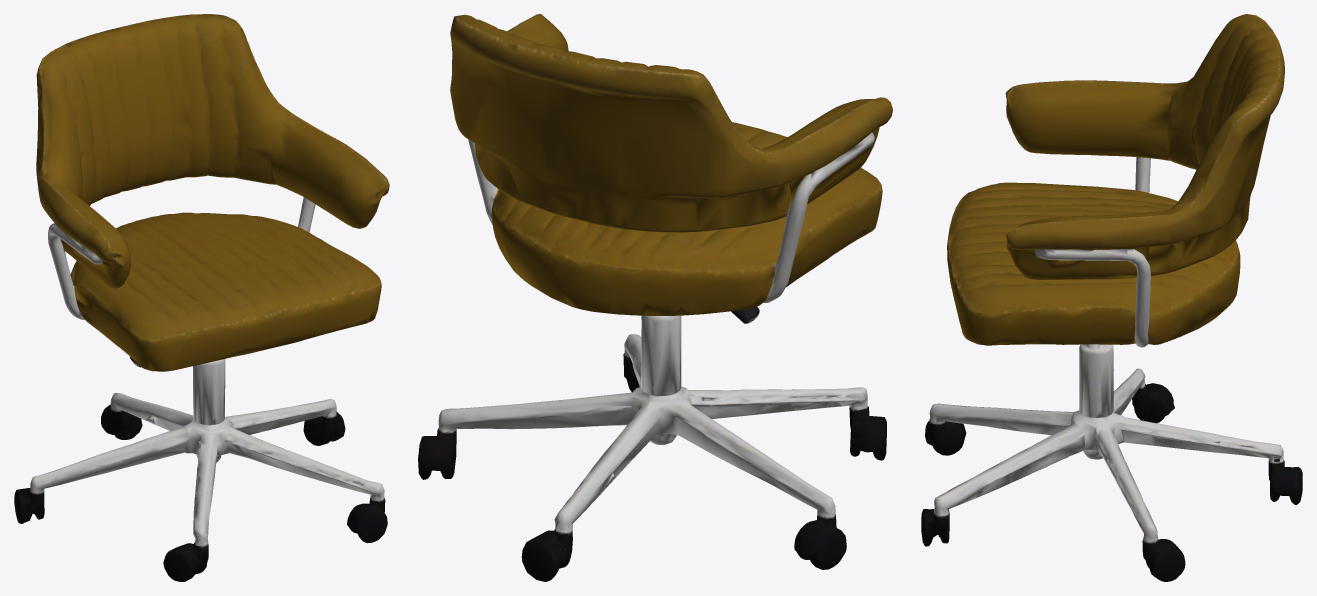
Rendered from UC47ONxj7-W7BqCAS4iam.glb.
3 views of the same model, side by side, from view 1: azimuth 30°, elevation 25°; view 2: azimuth 150°, elevation 25°; view 3: azimuth 270°, elevation 25° (orthographic). The views are drawn at different scales.
Parts seen in each view (by area): view 1: geometry_0; view 2: geometry_0; view 3: geometry_0.
Part boxes in pixels (x1,y1,x2,y2): geometry_0: (14,14,389,581); geometry_0: (418,14,892,581); geometry_0: (921,14,1302,581).
Bounding box in the file's own units: 0.8389 × 1 × 0.7861.
1 material, 1 textured.
